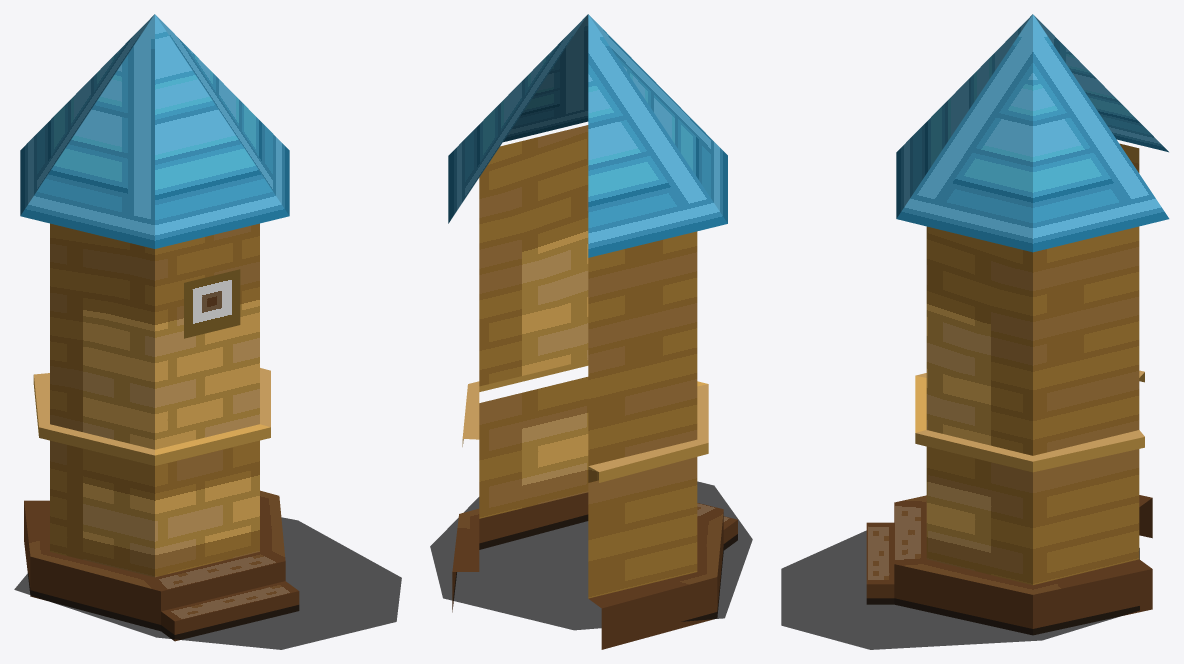
File: MooMoo Farm Silo.obj
The picture shows the model from 3 angles, left to right: view 1: azimuth 30°, elevation 25°; view 2: azimuth 150°, elevation 25°; view 3: azimuth 270°, elevation 25°; orthographic projection. The views are drawn at different scales.
Parts seen in each view (by area): view 1: polygon1, polygon0; view 2: polygon1, polygon0; view 3: polygon1, polygon0.
Part boxes in pixels (<box>): polygon1: <box>20,14,299,641</box>; polygon0: <box>14,517,401,649</box>; polygon1: <box>448,14,737,649</box>; polygon0: <box>430,481,752,630</box>; polygon1: <box>866,14,1169,634</box>; polygon0: <box>781,530,1139,649</box>.
Size of the model in its own units: 65.26 by 114 by 71.37.
2 materials, 2 textured.
